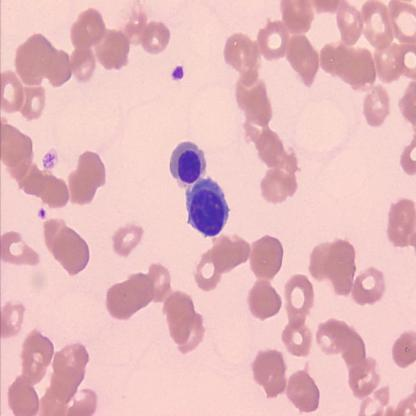NRC: (169, 139, 231, 240)
